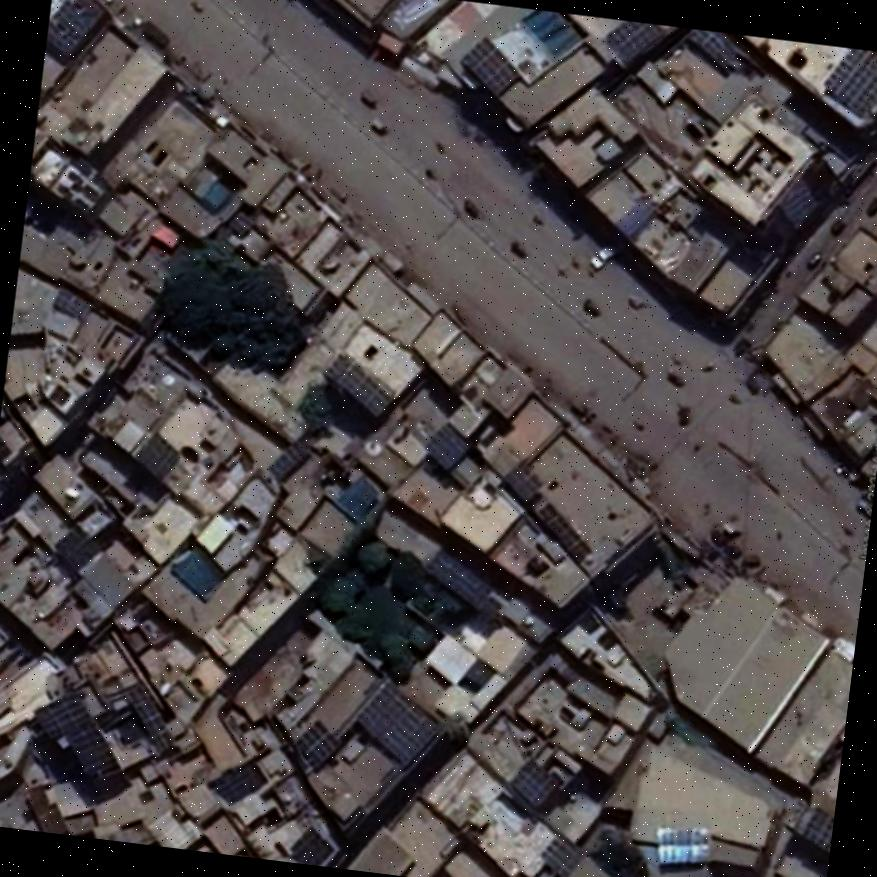Solarpanel: (33, 695, 117, 782), (354, 680, 437, 764), (321, 352, 393, 413), (821, 49, 877, 117), (460, 36, 519, 92), (539, 502, 590, 563), (603, 21, 663, 62), (511, 758, 555, 807), (423, 423, 469, 469), (296, 721, 341, 765), (266, 437, 309, 480), (289, 827, 331, 865), (802, 806, 833, 853)
